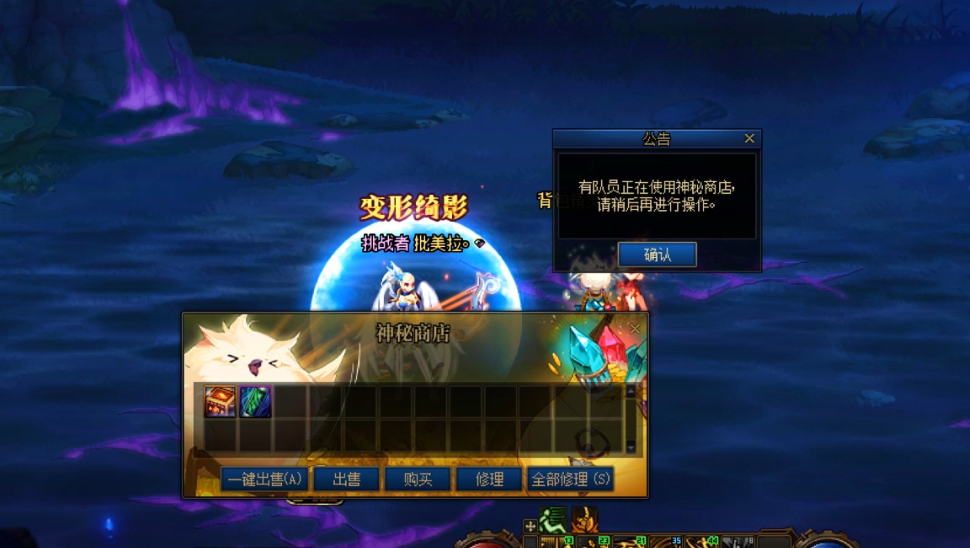can_hen: (239, 384, 272, 418)
smsd: (372, 321, 453, 346)
